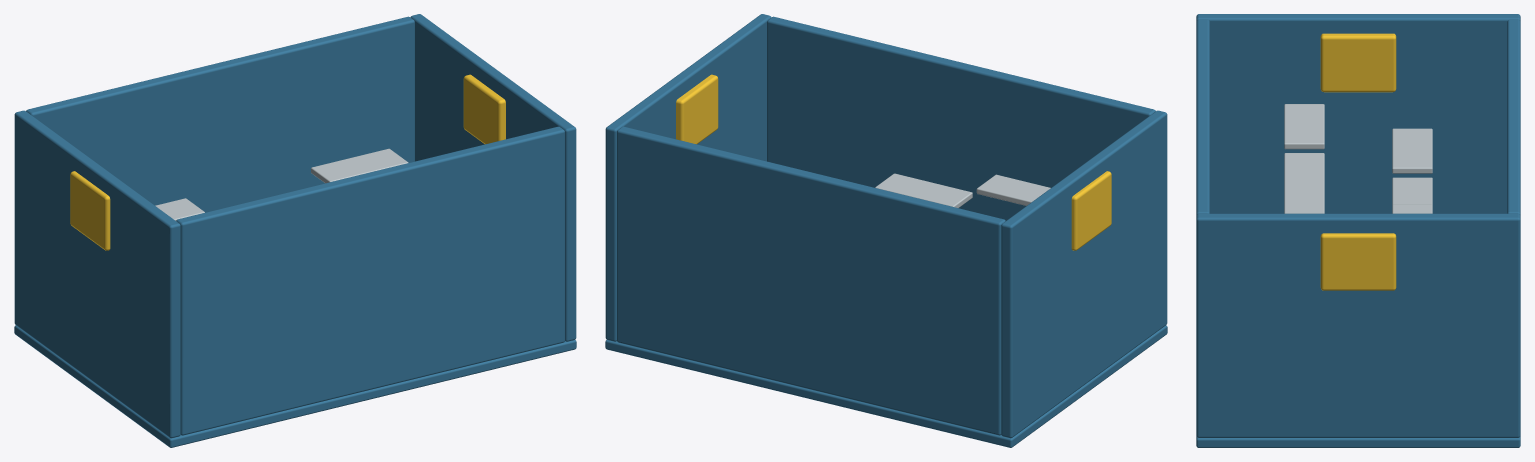
File: recycling-centre-and-material-sorting-sorted-metal-ski-4c29a922__31132.glb
3 views of the same model, side by side, from view 1: azimuth 30°, elevation 25°; view 2: azimuth 150°, elevation 25°; view 3: azimuth 270°, elevation 25° (orthographic). The views are drawn at different scales.
Parts seen in each view (by area): view 1: sorted-metal-skip; view 2: sorted-metal-skip; view 3: sorted-metal-skip.
Part boxes in pixels (x1,y1,x2,y2): sorted-metal-skip: (14, 14, 576, 447); sorted-metal-skip: (605, 14, 1167, 447); sorted-metal-skip: (1196, 14, 1520, 447).
Bounding box in the file's own units: 1.84 × 0.9401 × 1.2.
